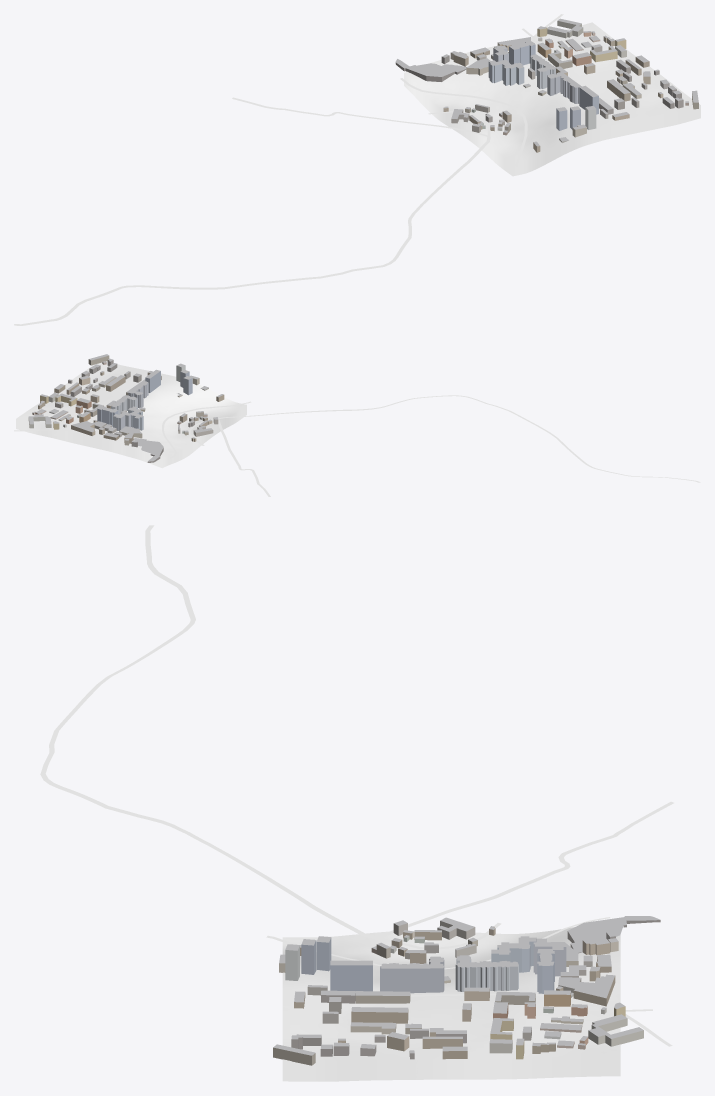
3 views of the same model, one above another, from view 1: azimuth 30°, elevation 25°; view 2: azimuth 150°, elevation 25°; view 3: azimuth 270°, elevation 25° (orthographic). The views are drawn at different scales.
Visible parts, largest first — view 1: t1_-2_1; view 2: t1_-2_1; view 3: t1_-2_1.
Part boxes in pixels (x1,y1,x2,y2): t1_-2_1: (14,14,700,325); t1_-2_1: (14,354,700,496); t1_-2_1: (40,525,673,1081).
Size of the model in its own units: 1999 by 121 by 961.
